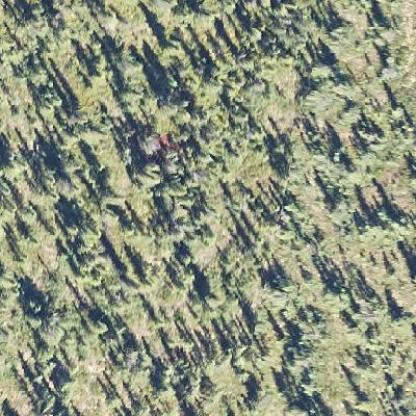tree-top: (132, 157, 163, 188), (274, 270, 300, 294), (23, 293, 46, 316), (311, 58, 335, 79), (198, 287, 219, 309), (18, 201, 40, 222), (86, 51, 108, 72), (363, 214, 384, 234), (35, 340, 55, 361), (55, 371, 76, 391), (175, 105, 193, 123)
